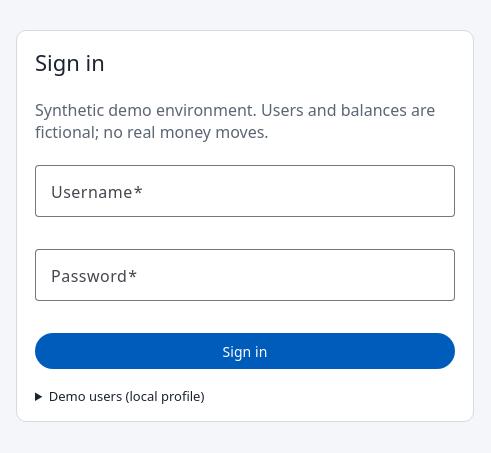
LoginComponent › shows a generic message on 401 and does not leak which field was wrong
Type "alice.customer" into the field named "username" at (245, 191), box [51,179,439,203]
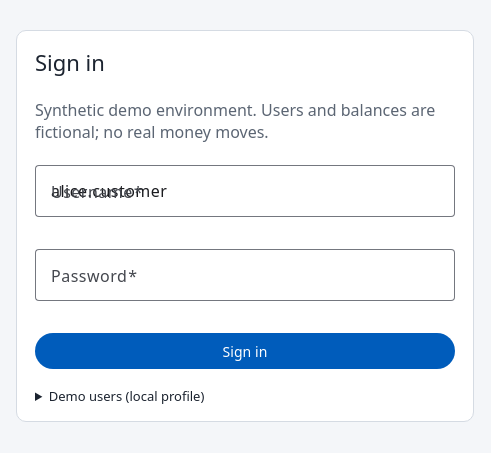
Type "wrong" into the password field named "password" at (245, 275), box [51,263,439,287]
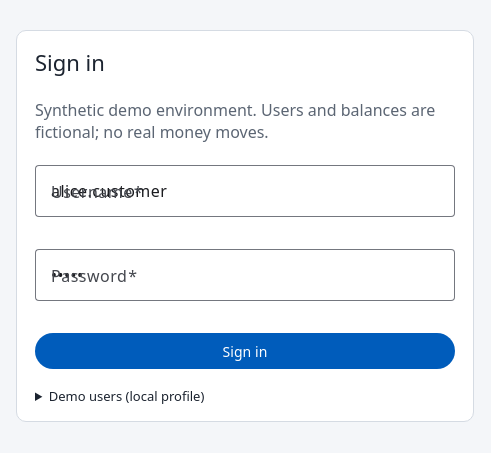
Submit the form
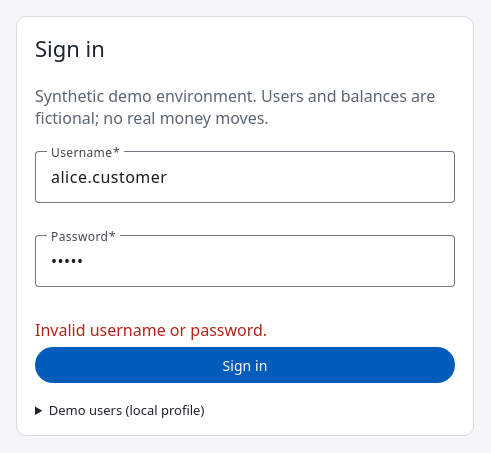
Check: the submit button is enabled, box [35,347,455,383]
Check: the message "Invalid username or password." is shown, box [35,319,267,341]
